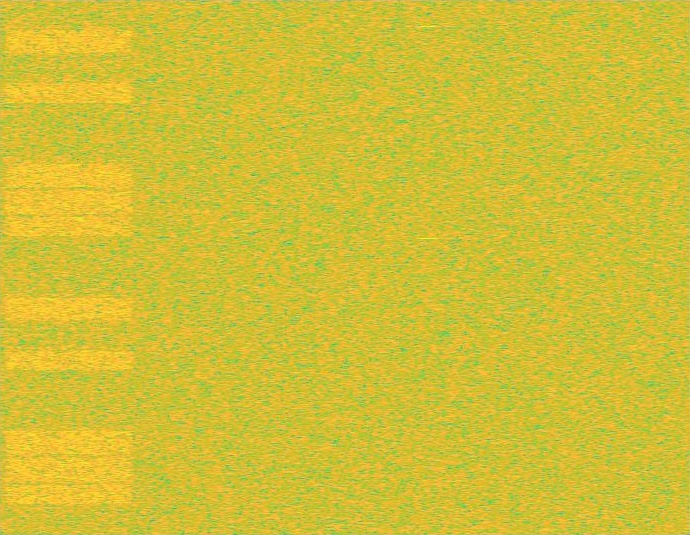LTE: (0, 0, 138, 534)
Radar: (421, 0, 435, 534)
